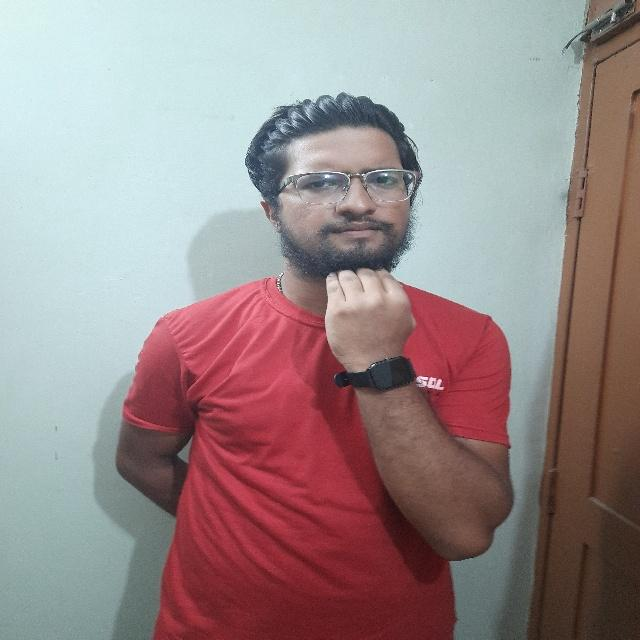Chin Flick: (258, 97, 430, 378)
